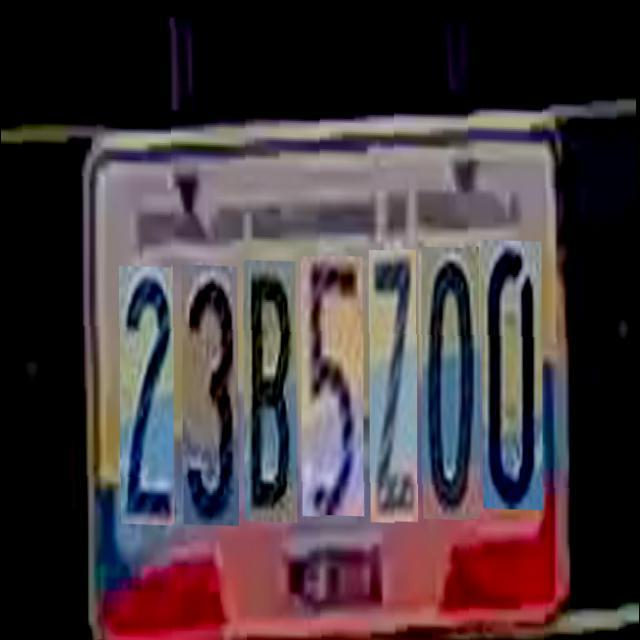0: (480, 235, 540, 504)
2: (118, 254, 172, 514)
3: (181, 254, 236, 515)
5: (299, 247, 362, 508)
B: (242, 251, 294, 514)
O: (421, 240, 478, 514)
Z: (368, 242, 416, 515)
